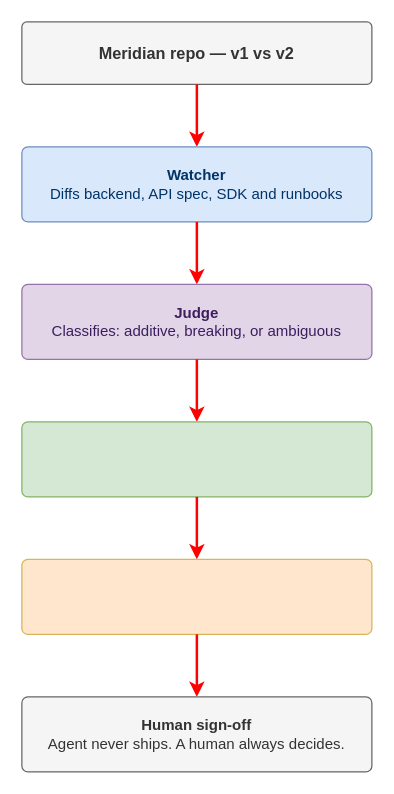
The diagram is 394 pixels wide and 794 high, and some of its shapes have lost their labels. Each missing label, with the box of its shape:
Cross-Checker Verifies SDK and runbook alignment: (21, 421, 372, 497)
Reporter Produces the go/no-go report: (21, 558, 372, 634)
